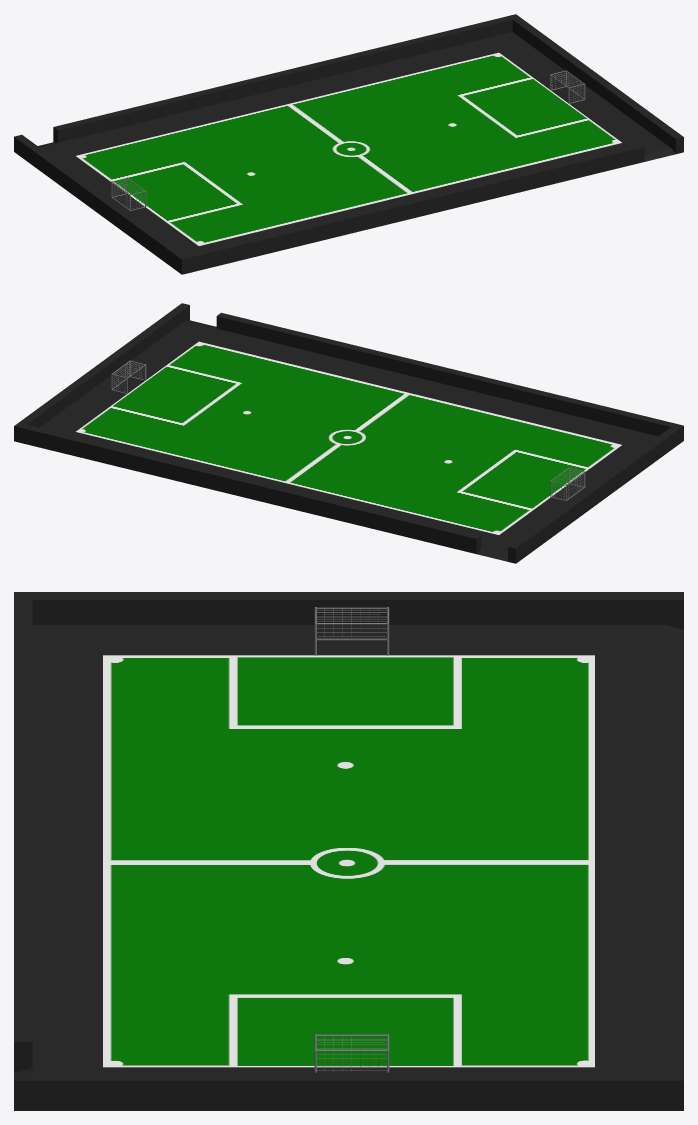
File: FootballCourt.fbx
The picture shows the model from 3 angles, top to bottom: view 1: azimuth 30°, elevation 25°; view 2: azimuth 150°, elevation 25°; view 3: azimuth 270°, elevation 25°; orthographic projection. The views are drawn at different scales.
Parts seen in each view (by area): view 1: FootballArea, footballoutground, FootballFootballGoal_1, FootballFootballGoal_2; view 2: FootballArea, footballoutground, FootballFootballGoal_1, FootballFootballGoal_2; view 3: FootballArea, footballoutground, FootballFootballGoal_1, FootballFootballGoal_2.
Boxes of the visible parts, x1,y1,x2,y2 form: FootballArea: (76,52,621,245); footballoutground: (14,14,683,274); FootballFootballGoal_1: (111,177,146,210); FootballFootballGoal_2: (550,70,585,103); FootballArea: (76,341,621,534); footballoutground: (14,303,683,563); FootballFootballGoal_1: (550,467,585,501); FootballFootballGoal_2: (111,360,146,393); FootballArea: (103,655,594,1067); footballoutground: (14,592,683,1110); FootballFootballGoal_1: (314,607,389,655); FootballFootballGoal_2: (314,1034,389,1072).
Bounding box in the file's own units: 6386 × 232 × 3702.
